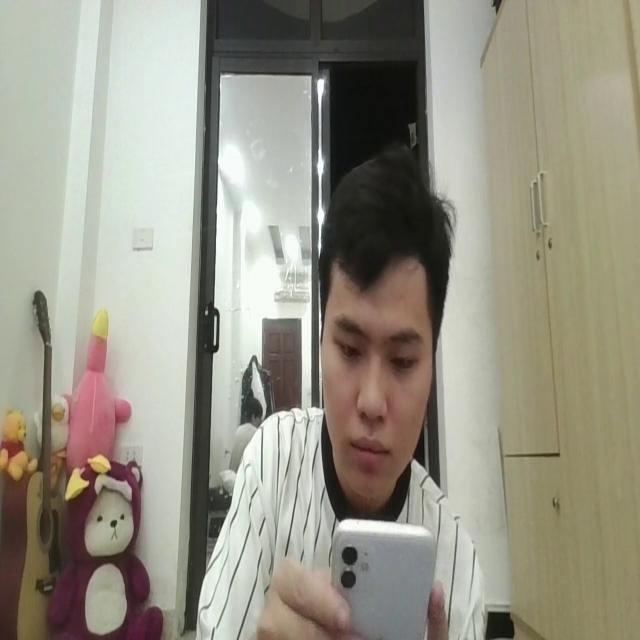phone: (331, 519, 438, 640)
student: (187, 148, 486, 640)
